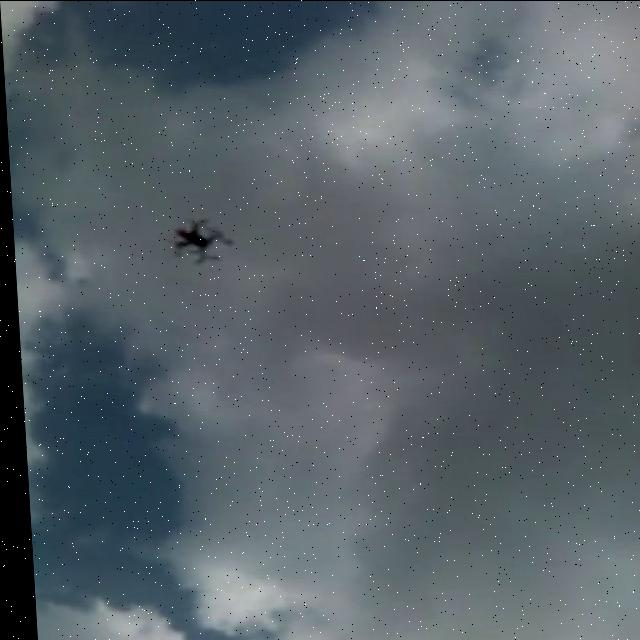drone: (163, 215, 241, 267)
